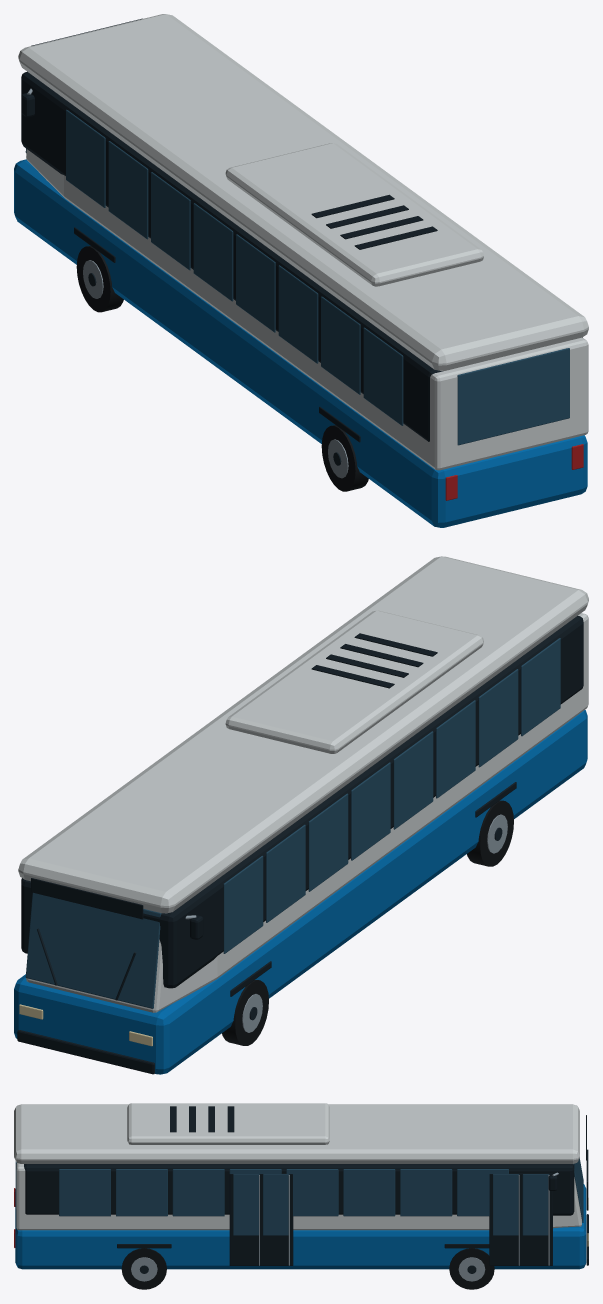
Rendered from bus.glb.
3 renders of one model, top to bottom at view 1: azimuth 30°, elevation 25°; view 2: azimuth 150°, elevation 25°; view 3: azimuth 270°, elevation 25°, orthographic. The views are drawn at different scales.
Parts seen in each view (by area): view 1: bus_body, bus_glass, bus_metal; view 2: bus_body, bus_glass, bus_metal; view 3: bus_body, bus_glass, bus_metal.
Boxes of the visible parts, bbox=[...] form: bus_body: bbox=[14, 14, 588, 527]; bus_glass: bbox=[25, 109, 569, 445]; bus_metal: bbox=[27, 88, 348, 478]; bus_body: bbox=[14, 556, 588, 1074]; bus_glass: bbox=[25, 638, 560, 1008]; bus_metal: bbox=[37, 814, 507, 1032]; bus_body: bbox=[14, 1103, 588, 1289]; bus_glass: bbox=[15, 1158, 583, 1235]; bus_metal: bbox=[131, 1149, 588, 1281].
Bounding box in the file's own units: 2.85 × 3.32 × 11.93.
